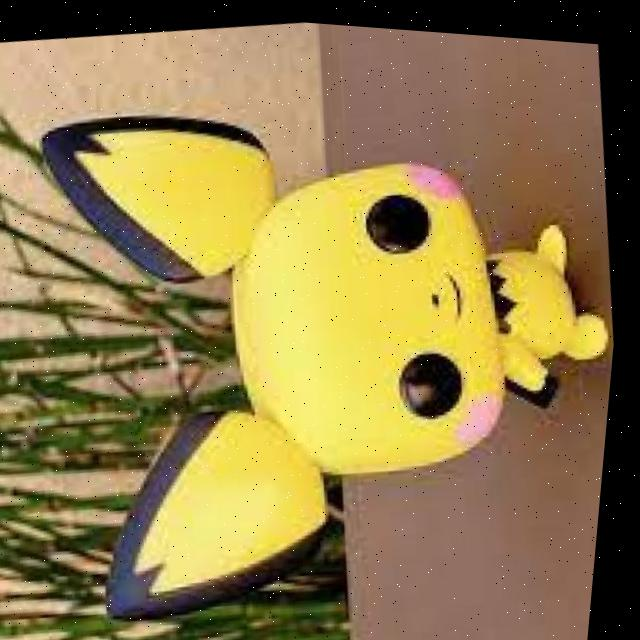pichu: (9, 42, 637, 640)
